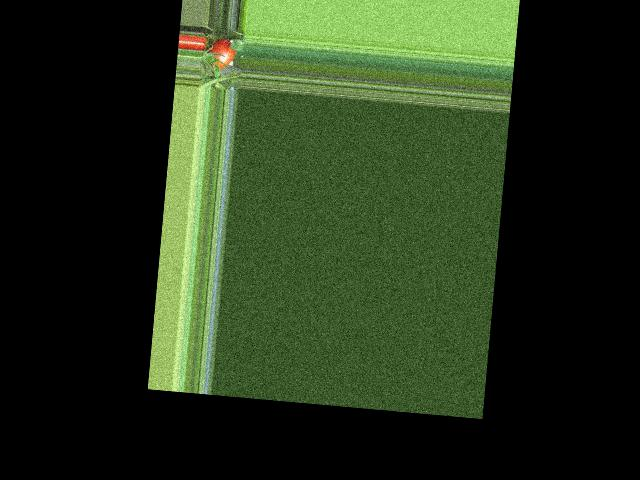tomato: (207, 37, 236, 69)
